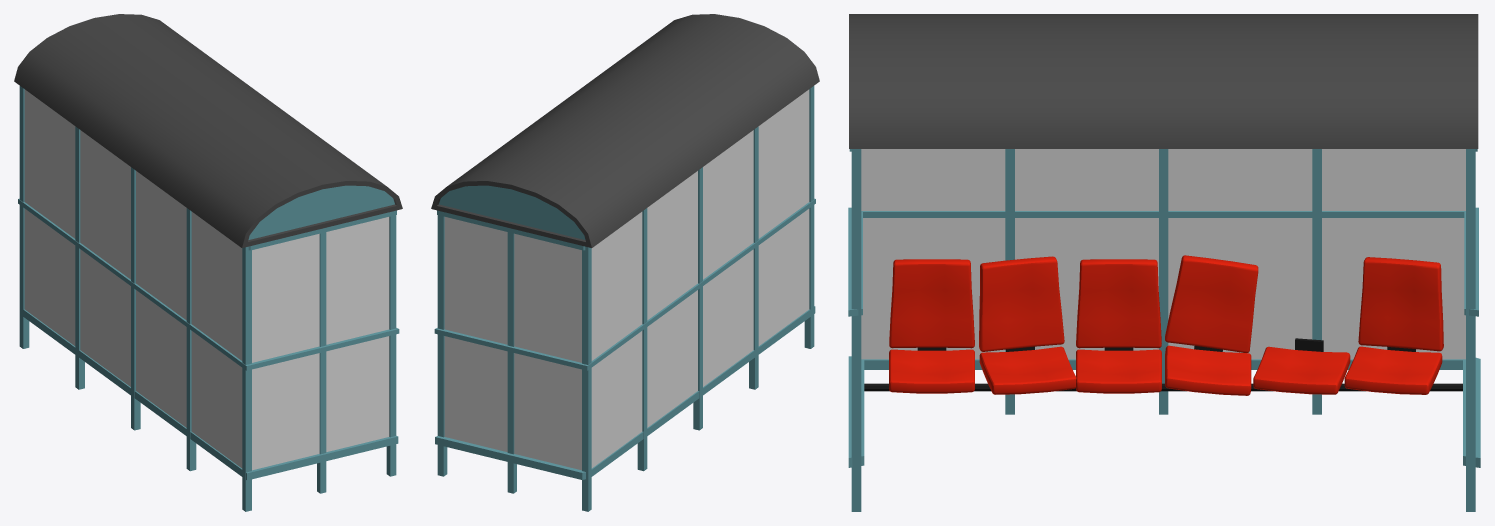
File: RB_BusStop.fbx
3 views of the same model, side by side, from view 1: azimuth 30°, elevation 25°; view 2: azimuth 150°, elevation 25°; view 3: azimuth 270°, elevation 25° (orthographic). The views are drawn at different scales.
Parts seen in each view (by area): view 1: BusStop_low; view 2: BusStop_low; view 3: BusStop_low.
Part boxes in pixels (x1,y1,x2,y2): BusStop_low: [14, 14, 402, 511]; BusStop_low: [431, 14, 819, 511]; BusStop_low: [848, 14, 1480, 511].
Bounding box in the file's own units: 100 × 184 × 247.
